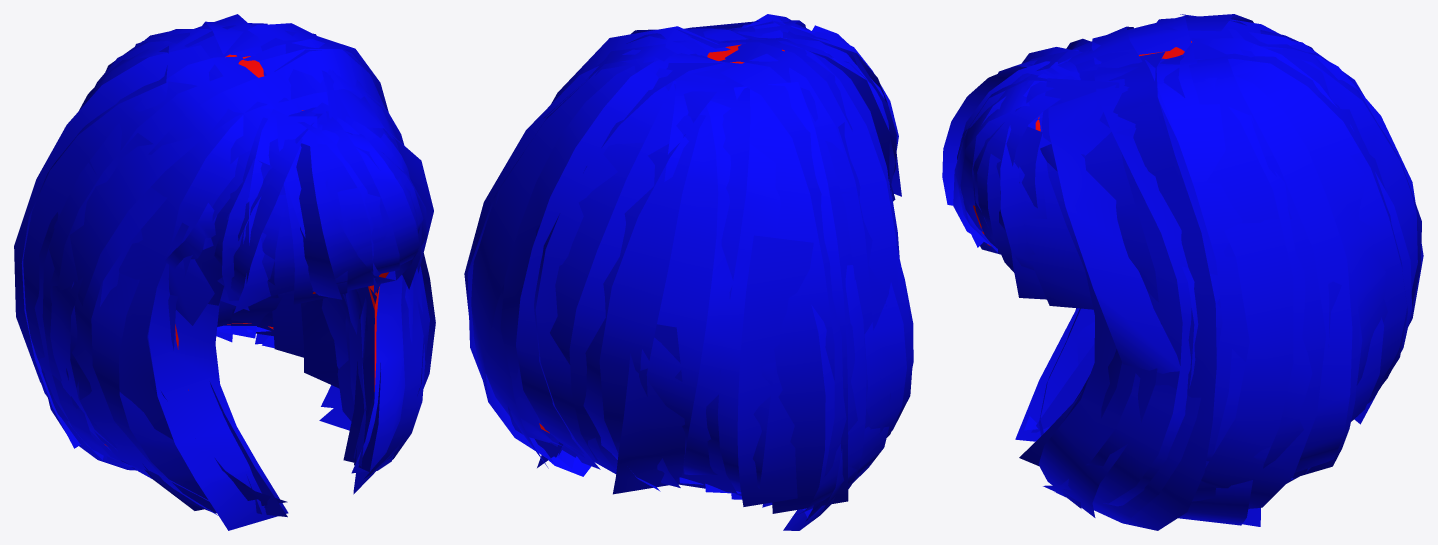
File: hair_005.obj
The picture shows the model from 3 angles, left to right: view 1: azimuth 30°, elevation 25°; view 2: azimuth 150°, elevation 25°; view 3: azimuth 270°, elevation 25°; orthographic projection. The views are drawn at different scales.
Bounding box in the file's own units: 25.66 × 27.72 × 27.44.
